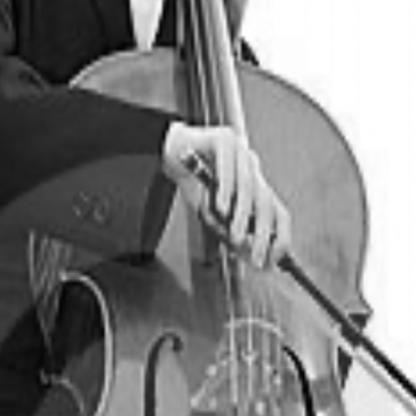good: (170, 108, 298, 278)
